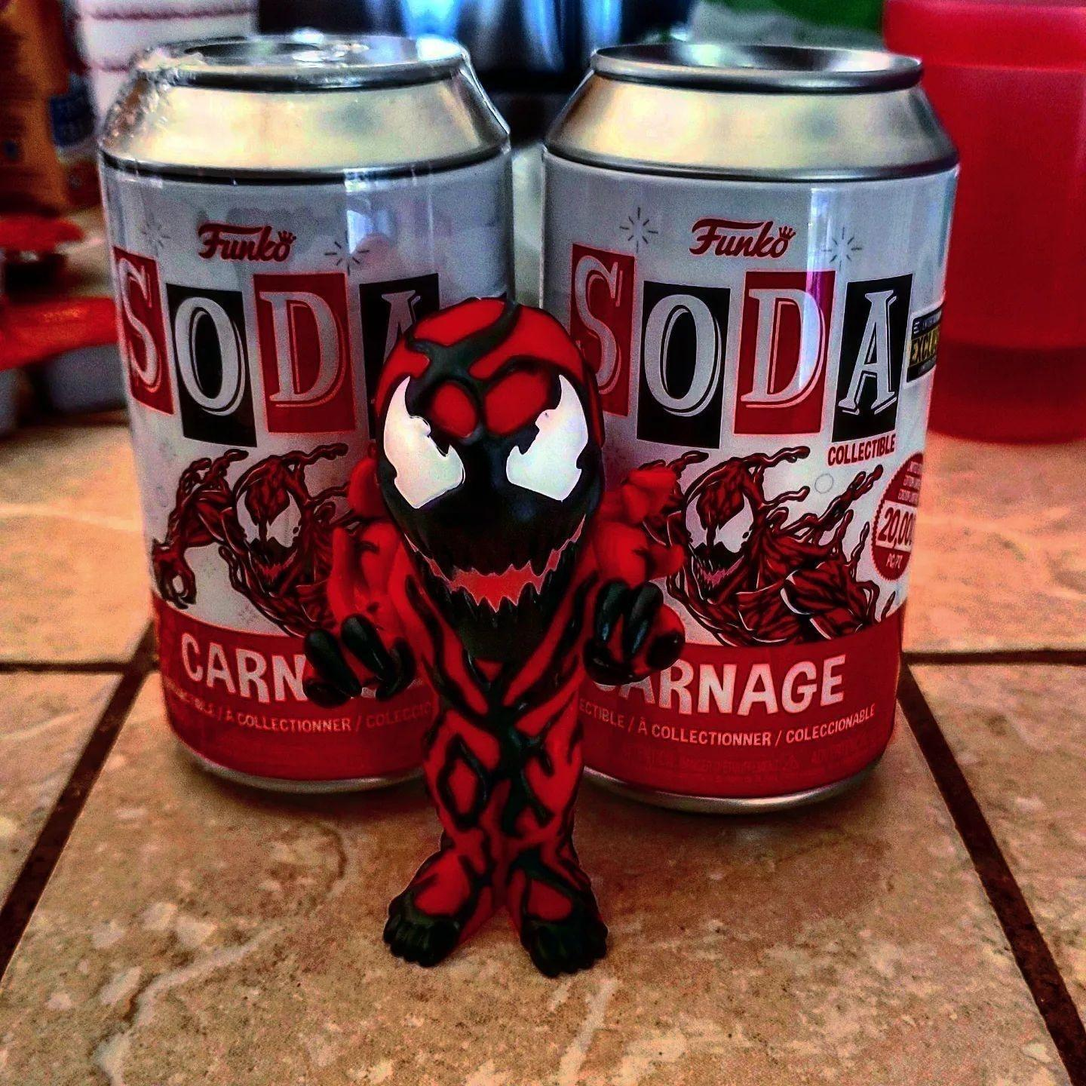tin can: (534, 32, 976, 836), (97, 32, 521, 811)
